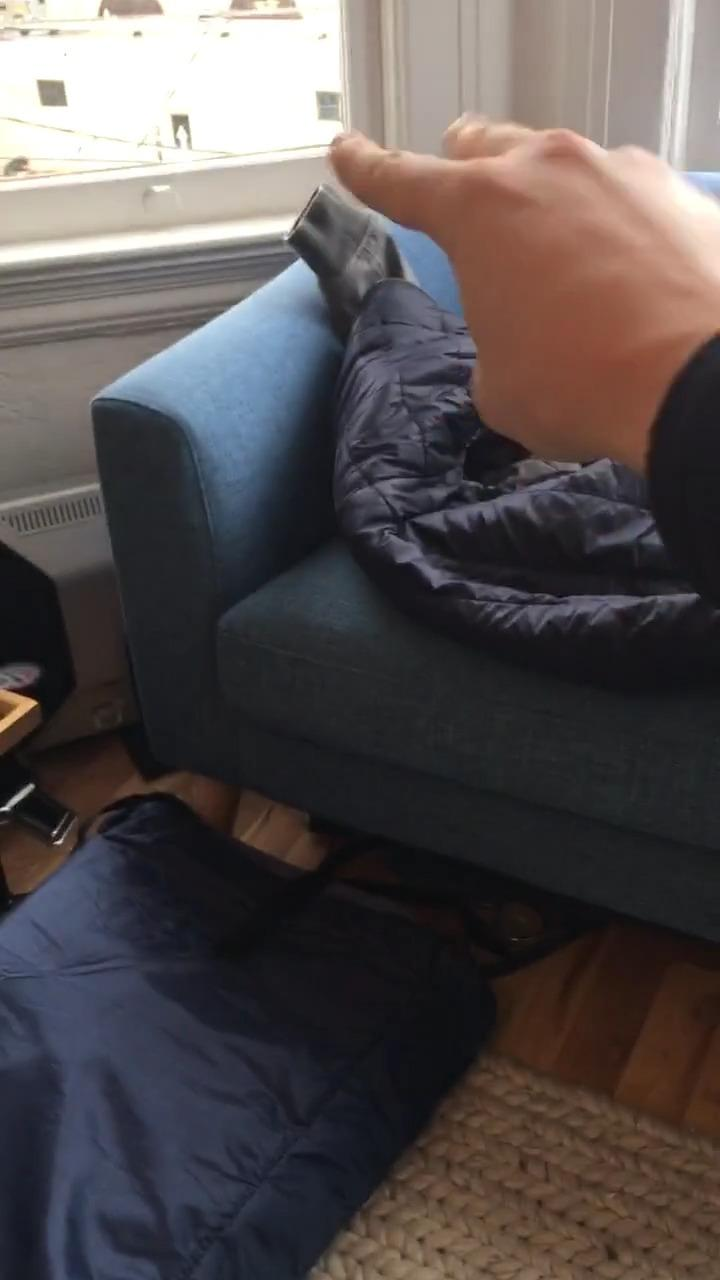Scissors: (324, 110, 720, 463)
